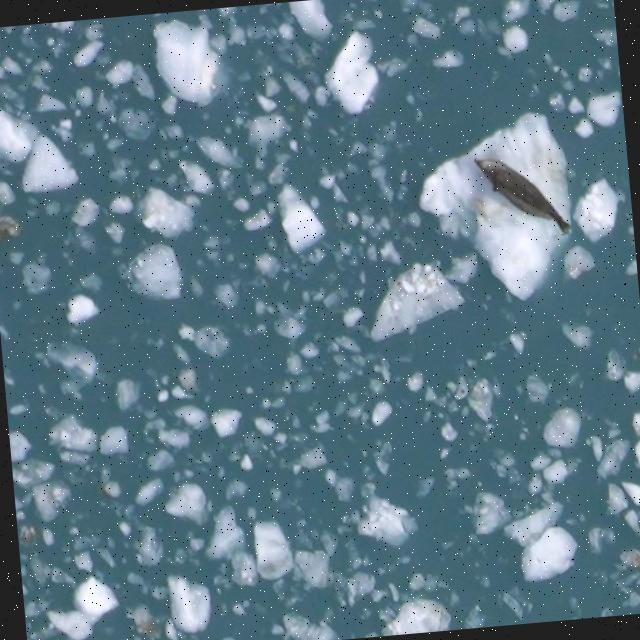seal: (475, 155, 571, 234)
